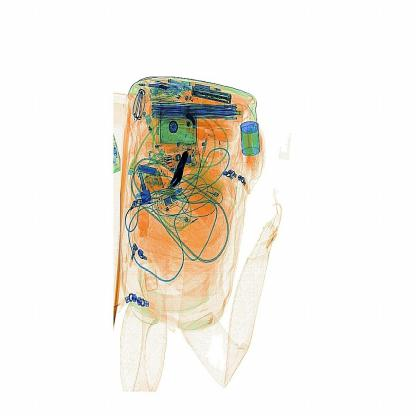knife: (170, 142, 194, 196)
